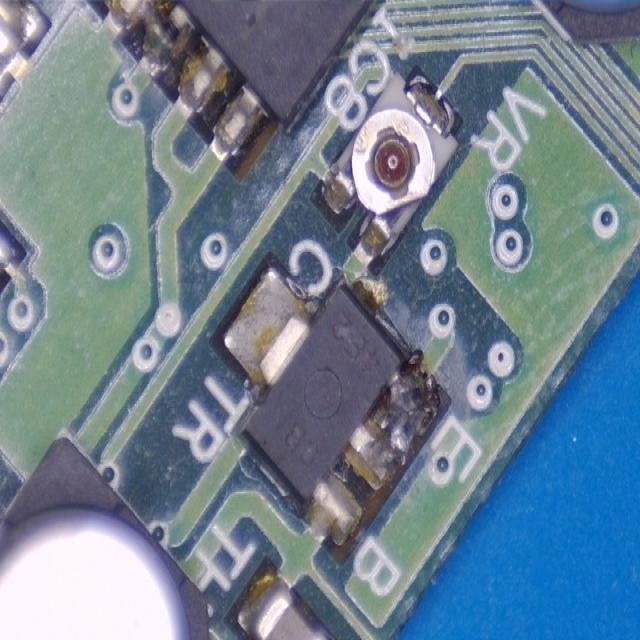Short_circuit: (348, 372, 441, 479)
